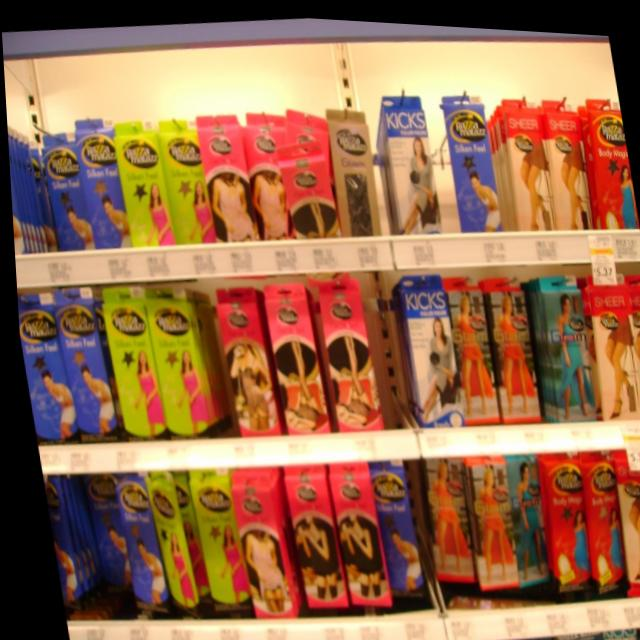q67: (221, 457, 299, 629), (187, 101, 256, 244), (234, 95, 298, 241)
